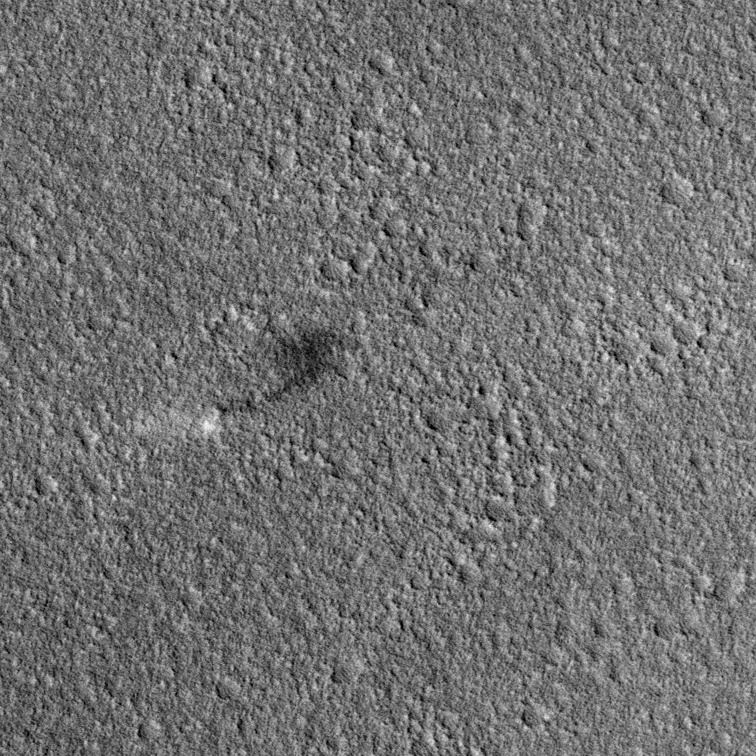dust_devil: (139, 324, 347, 441)
